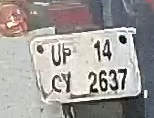1: (94, 39, 102, 65)
2: (87, 72, 98, 93)
3: (107, 68, 119, 91)
4: (102, 39, 113, 62)
6: (98, 69, 109, 91)
7: (117, 68, 128, 92)
C: (51, 73, 63, 93)
P: (62, 43, 72, 66)
U: (49, 41, 61, 68)
Y: (60, 70, 72, 93)
